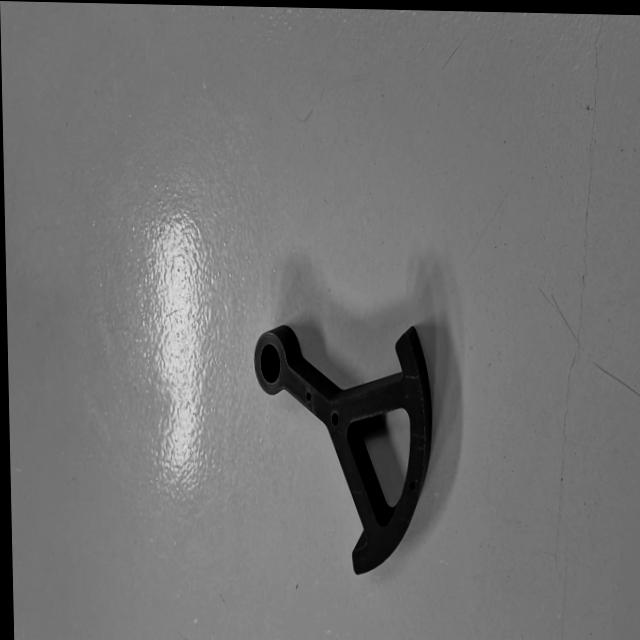haptic: (252, 319, 437, 577)
